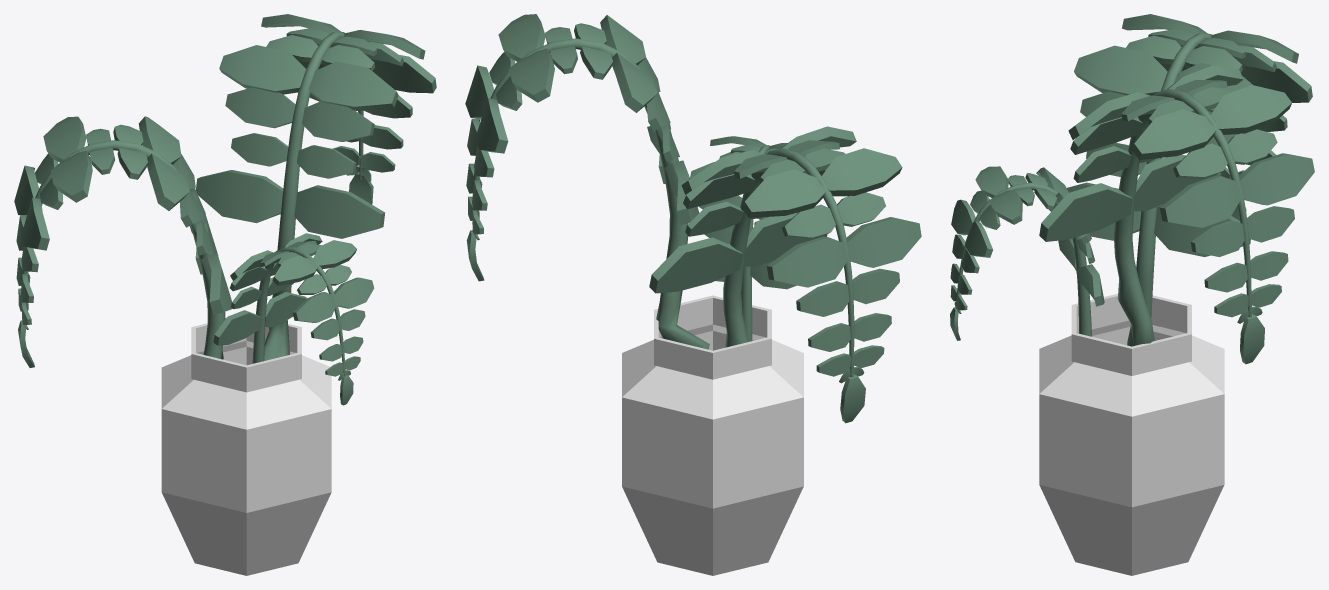
Rendered from Asset_plante_B.fbx.
3 renders of one model, left to right at view 1: azimuth 30°, elevation 25°; view 2: azimuth 150°, elevation 25°; view 3: azimuth 270°, elevation 25°, orthographic. The views are drawn at different scales.
Parts seen in each view (by area): view 1: A_vase3; view 2: A_vase3; view 3: A_vase3.
Boxes of the visible parts, bbox=[...] form: A_vase3: bbox=[14, 14, 436, 575]; A_vase3: bbox=[465, 14, 921, 575]; A_vase3: bbox=[950, 14, 1314, 575].
Size of the model in its own units: 69.62 by 76.94 by 49.43.
